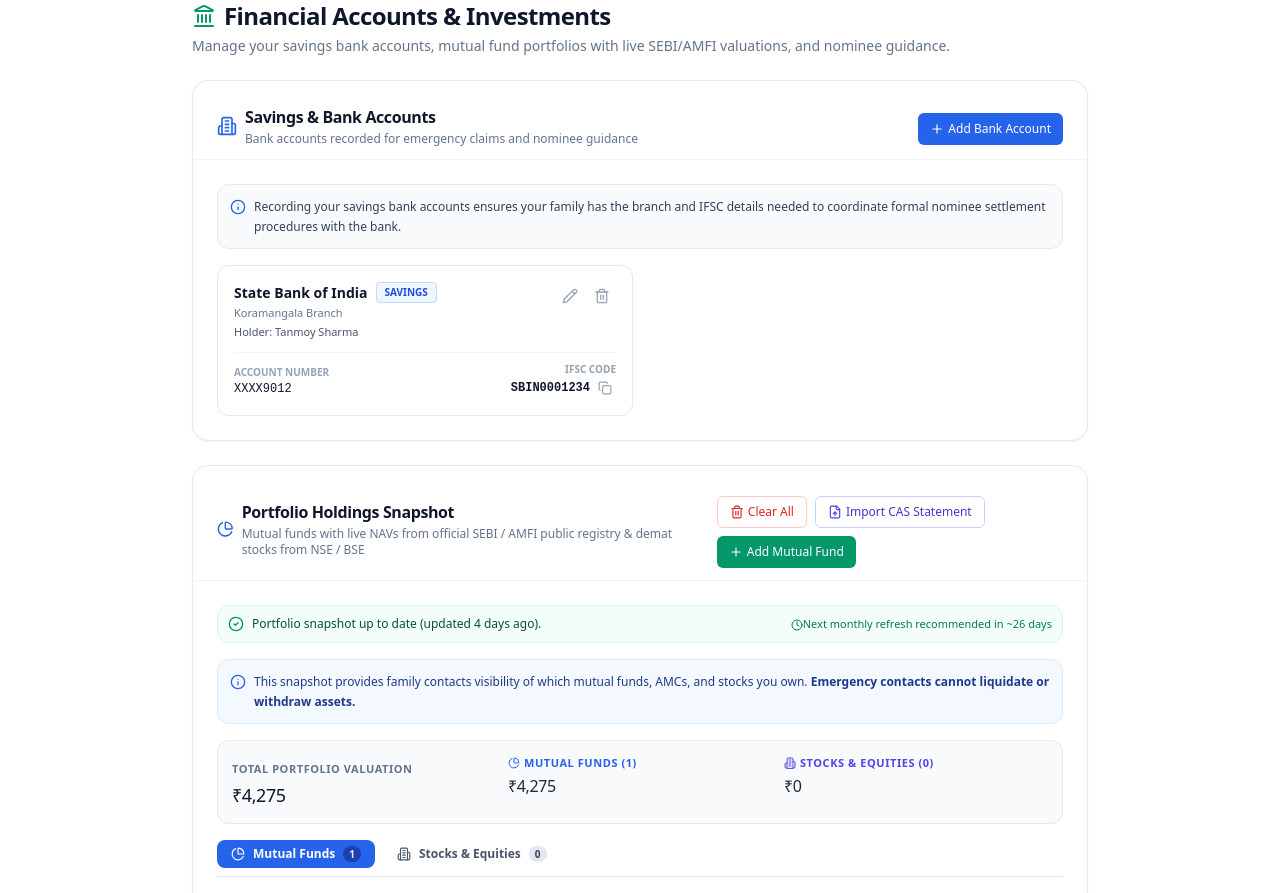
Test: Accounts Feature - Bank Accounts & Mutual Funds › allows clearing all portfolio holdings snapshot data with confirmation dialog
Click the button "Clear All".
click(762, 512)  # box [717,496,807,528]
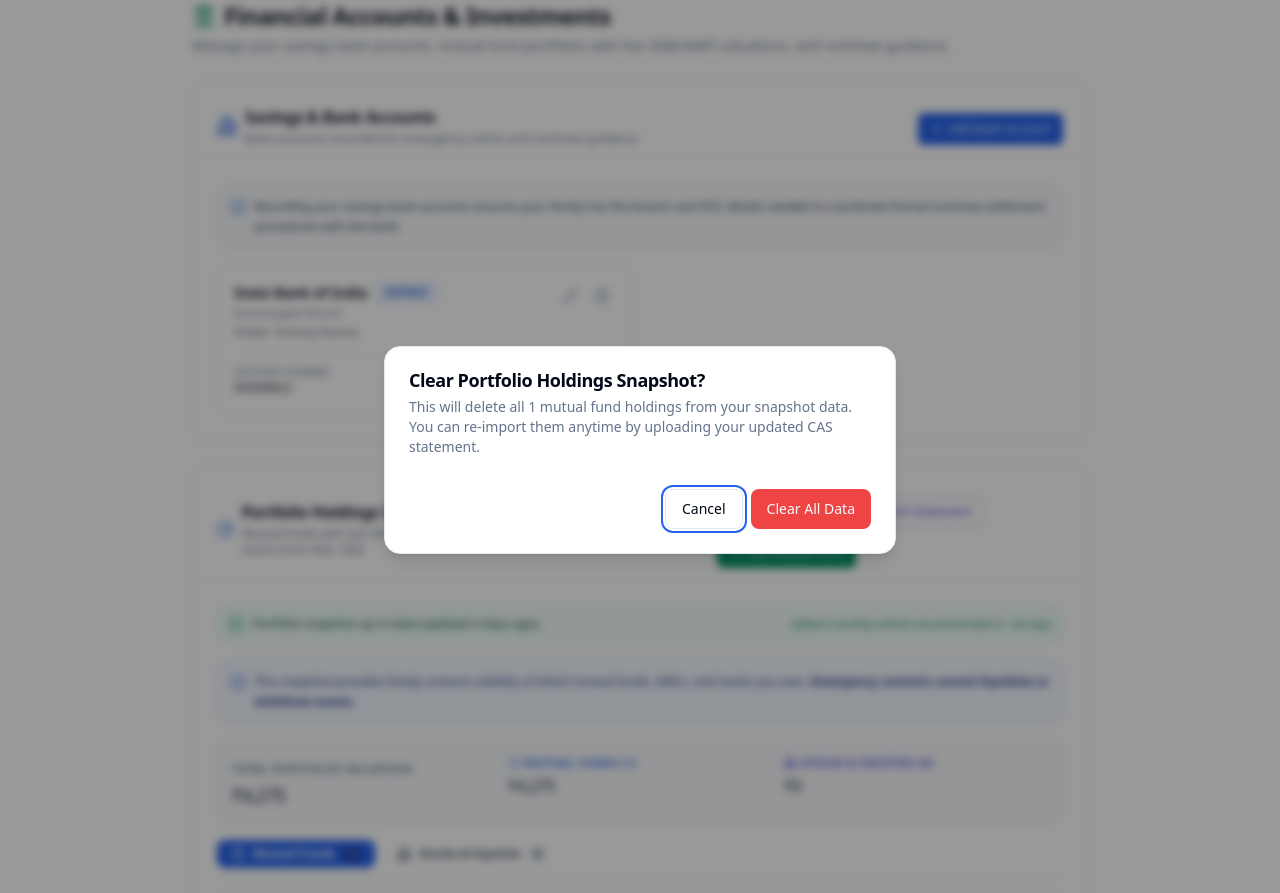
Check: the heading "Clear Portfolio Holdings Snapshot?" is shown, box [409,368,705,392]
Check: the text "This will delete all 1 mutual fund holdings" is shown, box [409,397,852,456]
# Confirm clear all
Click the button "Clear All Data".
click(811, 509)  # box [751,489,871,529]
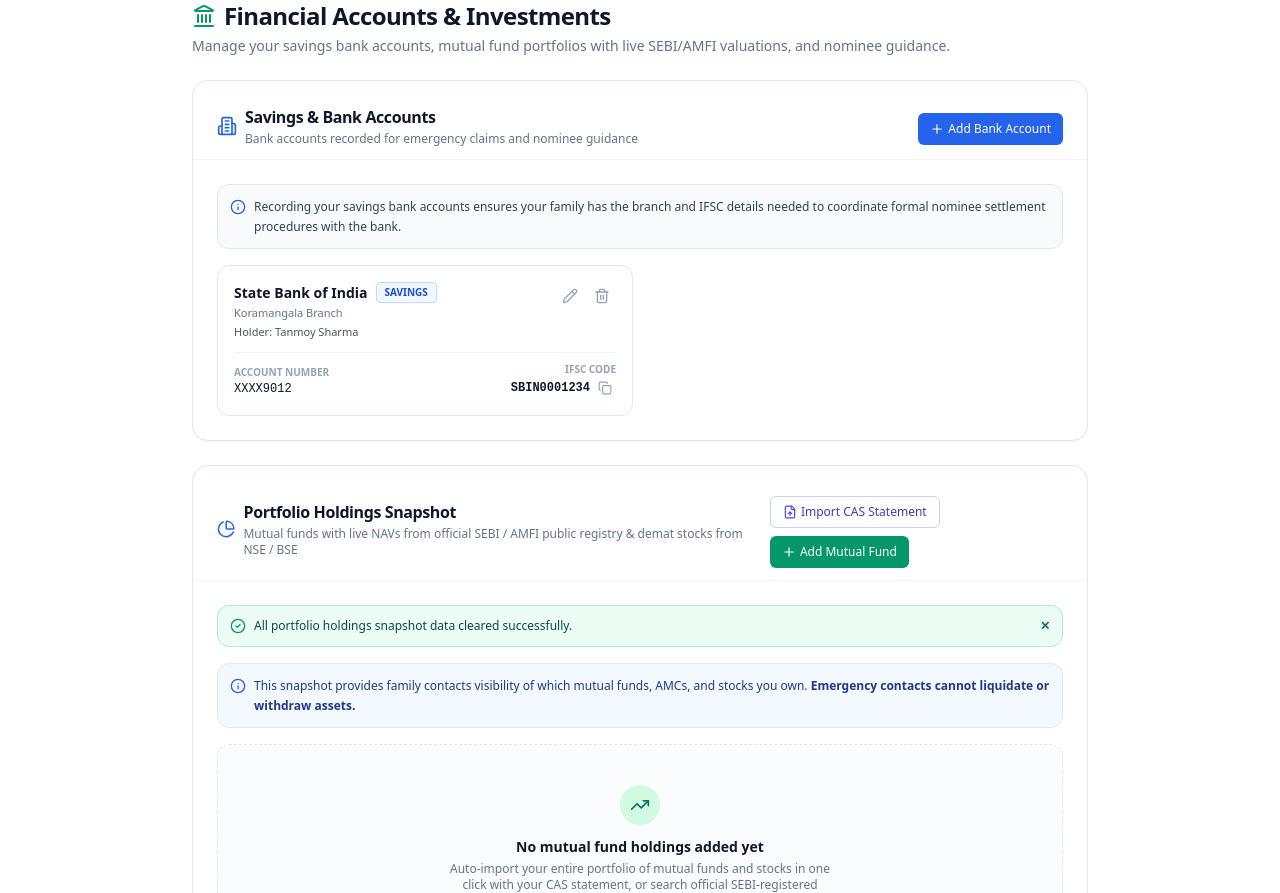
Check: the text "All portfolio holdings snapshot data cleared successfully." is shown, box [254,618,572,634]
Check: the text "No mutual fund holdings added yet" is shown, box [516,837,764,856]
